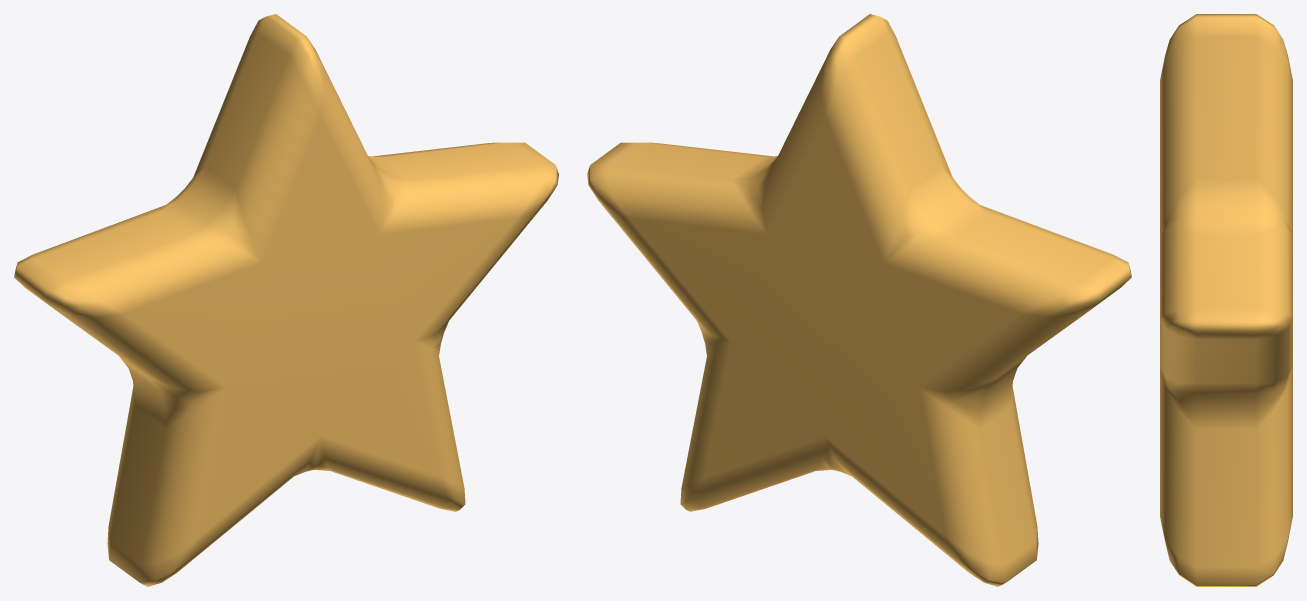
Rendered from star.glb.
3 renders of one model, left to right at view 1: azimuth 30°, elevation 25°; view 2: azimuth 150°, elevation 25°; view 3: azimuth 270°, elevation 25°, orthographic. The views are drawn at different scales.
Parts seen in each view (by area): view 1: Star; view 2: Star; view 3: Star.
Part boxes in pixels (x1,y1,x2,y2): Star: (14, 14, 558, 586); Star: (587, 14, 1131, 586); Star: (1160, 14, 1292, 586).
Size of the model in its own units: 0.869 by 0.8264 by 0.2.
